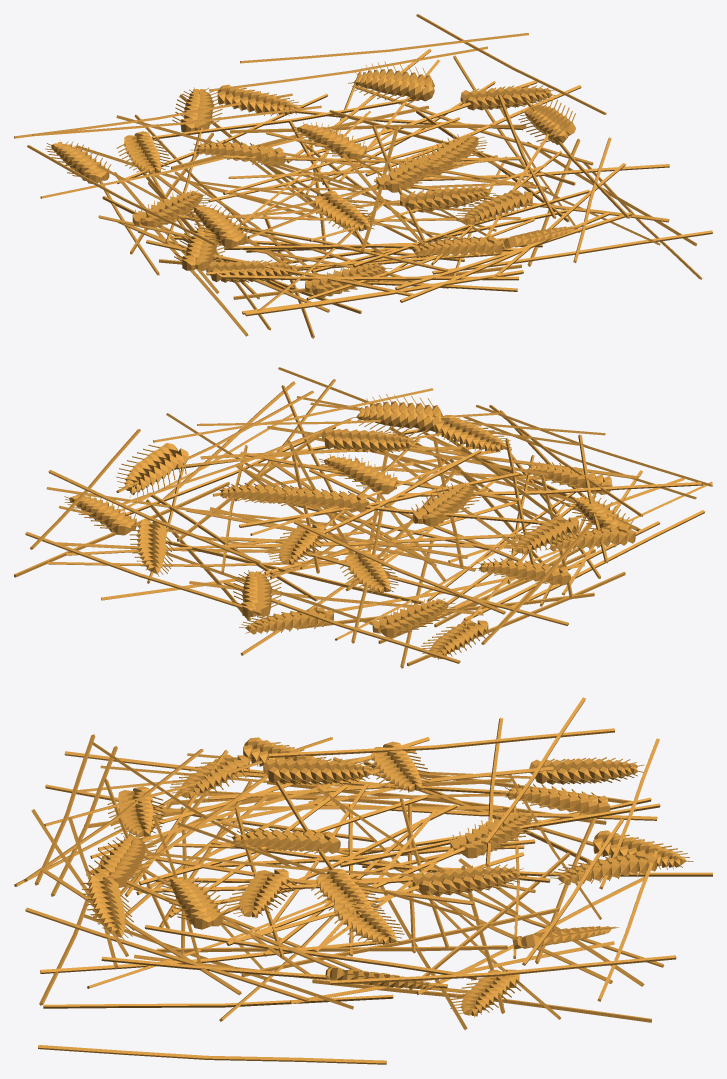
Rendered from squashed_wheat.gltf.
The picture shows the model from 3 angles, top to bottom: view 1: azimuth 30°, elevation 25°; view 2: azimuth 150°, elevation 25°; view 3: azimuth 270°, elevation 25°; orthographic projection. The views are drawn at different scales.
Visible parts, largest first — view 1: Squashed Wheat; view 2: Squashed Wheat; view 3: Squashed Wheat.
Part boxes in pixels (x1=…): Squashed Wheat: x1=14, y1=14, x2=712, y2=338; Squashed Wheat: x1=14, y1=367, x2=712, y2=668; Squashed Wheat: x1=14, y1=697, x2=712, y2=1064.
Size of the model in its own units: 2.38 by 0.4031 by 2.32.
